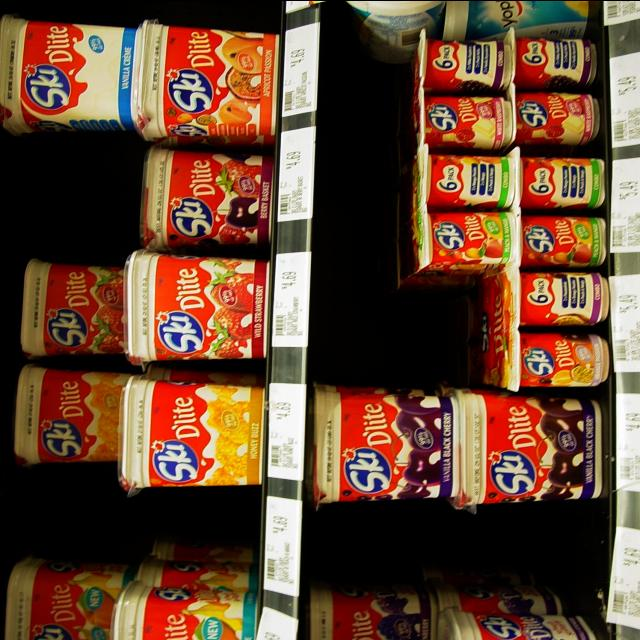empty_space: (315, 507, 601, 581), (322, 77, 402, 289), (28, 486, 268, 549), (12, 153, 138, 255), (322, 296, 466, 380)
